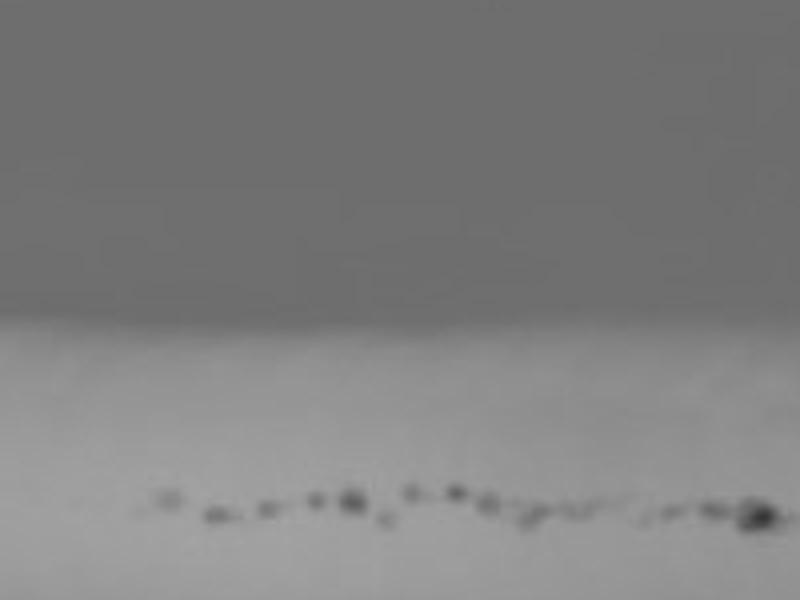defect: (732, 496, 778, 535), (516, 499, 550, 533), (558, 496, 593, 522), (471, 487, 502, 516), (340, 485, 367, 516), (149, 486, 181, 511), (201, 502, 233, 527), (442, 479, 470, 505), (397, 478, 425, 503), (699, 498, 729, 521), (660, 498, 688, 522), (254, 496, 279, 521), (375, 506, 398, 530), (306, 488, 325, 509)
